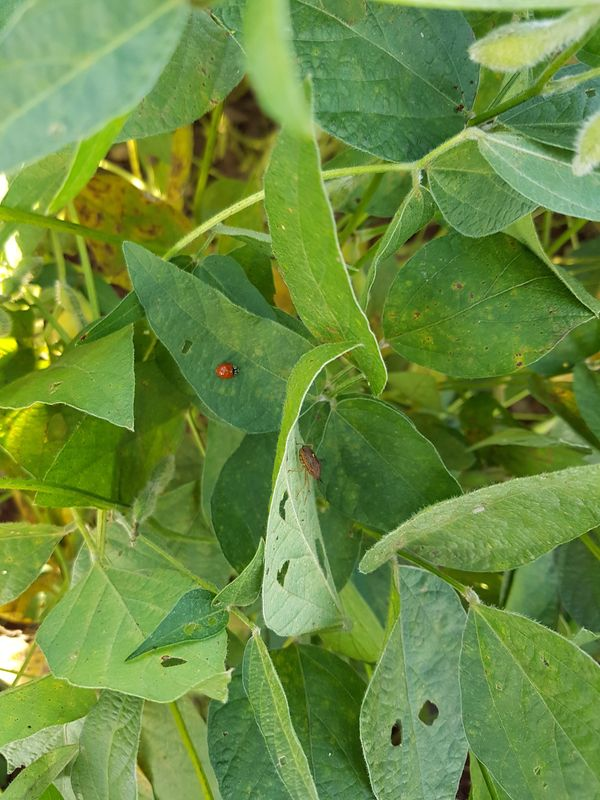Coccinellidae: (206, 356, 244, 387)
Euschistus_heros_adulto: (279, 436, 332, 505)
